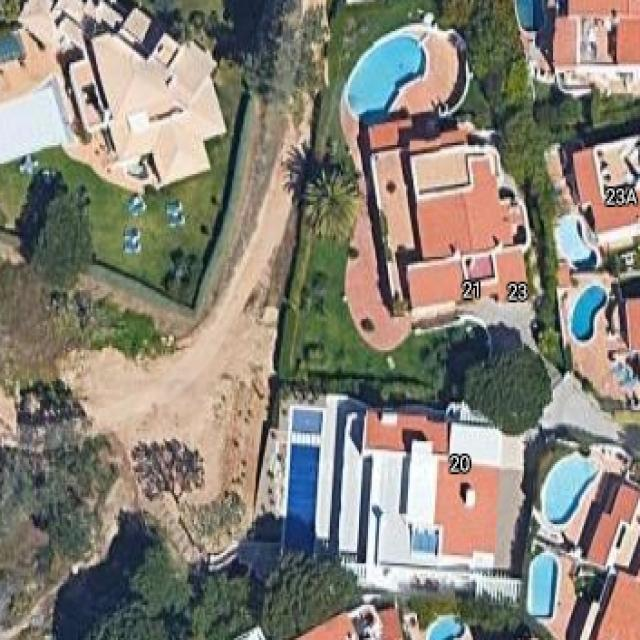pool: (317, 11, 450, 147), (516, 429, 618, 543), (275, 397, 332, 574), (539, 203, 614, 286), (552, 271, 623, 358), (521, 548, 565, 624), (0, 22, 34, 70), (513, 1, 553, 36), (423, 612, 469, 638)
